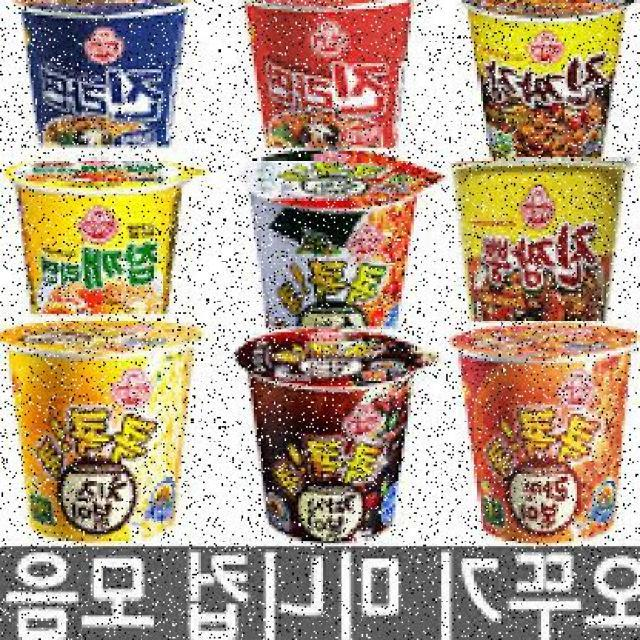Miscellaneous: (229, 323, 443, 540), (5, 319, 206, 541), (238, 156, 438, 364), (441, 328, 637, 540), (7, 154, 187, 352), (448, 150, 637, 336), (6, 0, 202, 169), (236, 0, 425, 175), (458, 0, 640, 169)
